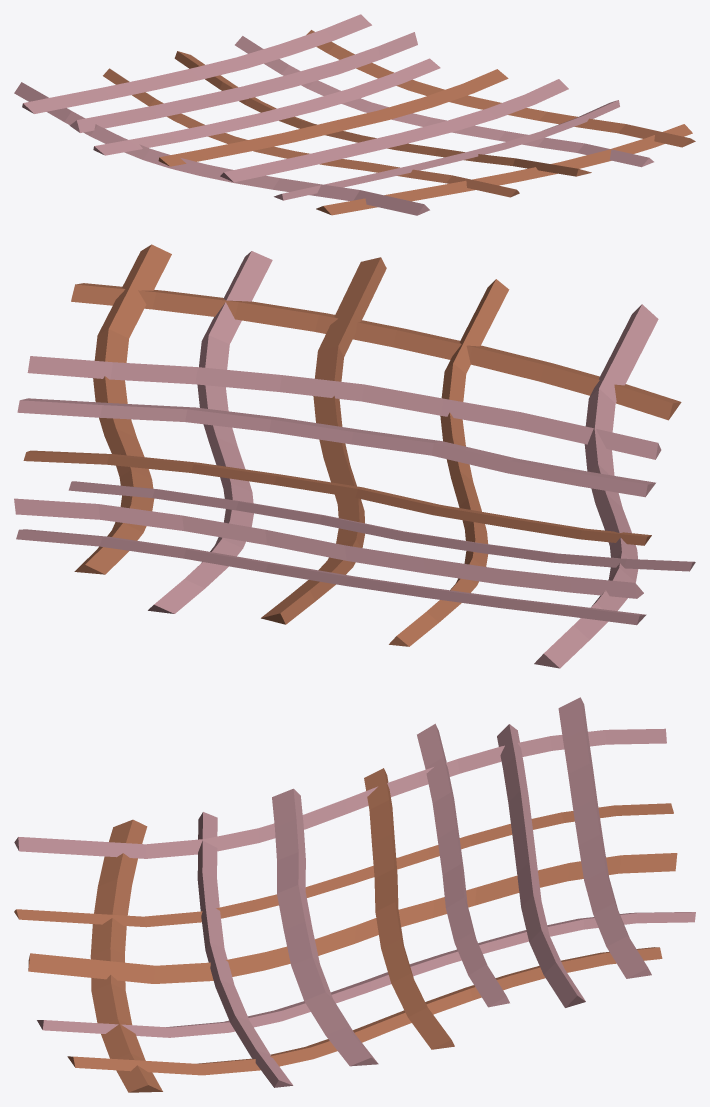
The model's file is wire.fbx.
3 renders of one model, top to bottom at view 1: azimuth 30°, elevation 25°; view 2: azimuth 150°, elevation 25°; view 3: azimuth 270°, elevation 25°, orthographic. The views are drawn at different scales.
Visible parts, largest first — view 1: Cylinder.017; view 2: Cylinder.017; view 3: Cylinder.017.
Boxes of the visible parts, x1=… form: Cylinder.017: x1=14, y1=14, x2=695, y2=215; Cylinder.017: x1=14, y1=244, x2=695, y2=668; Cylinder.017: x1=14, y1=697, x2=695, y2=1092.
Bounding box in the file's own units: 71.89 × 6.46 × 59.91.
